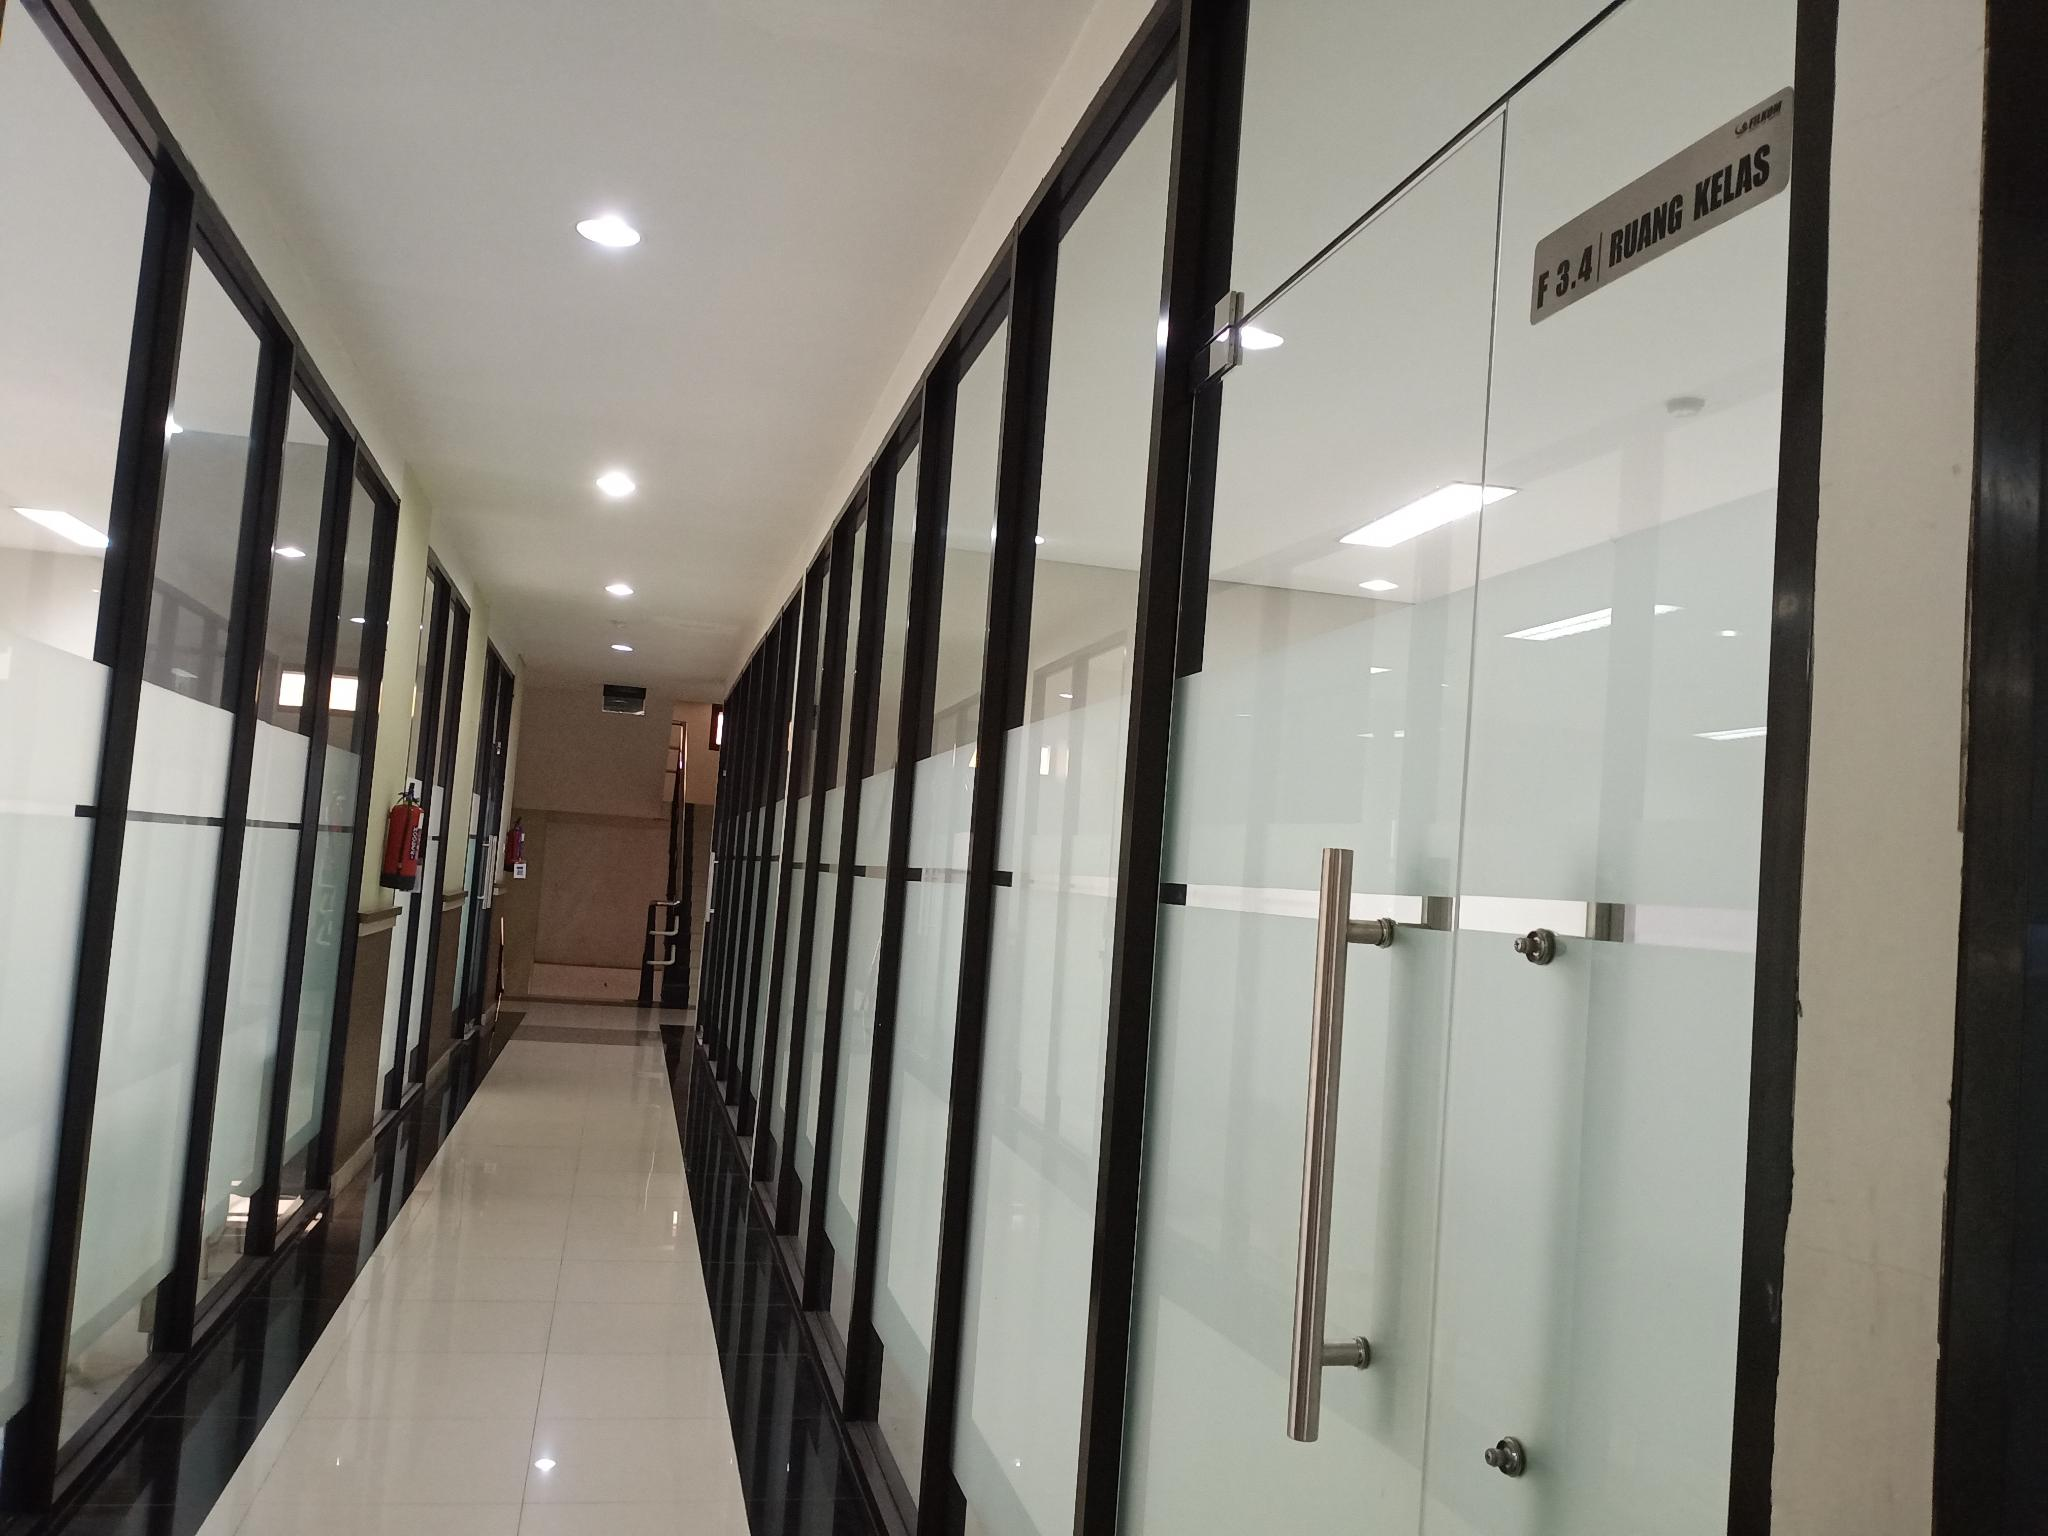plate: (1530, 86, 1795, 324)
